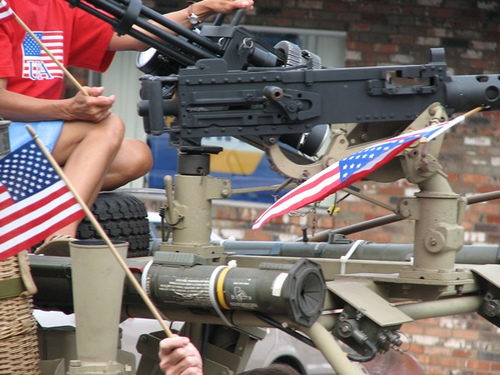rifle: (124, 65, 486, 143)
rifle in hand: (104, 1, 487, 193)
